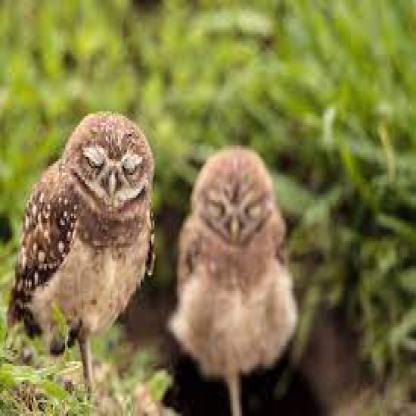owl: (181, 102, 376, 414), (0, 50, 155, 414)
